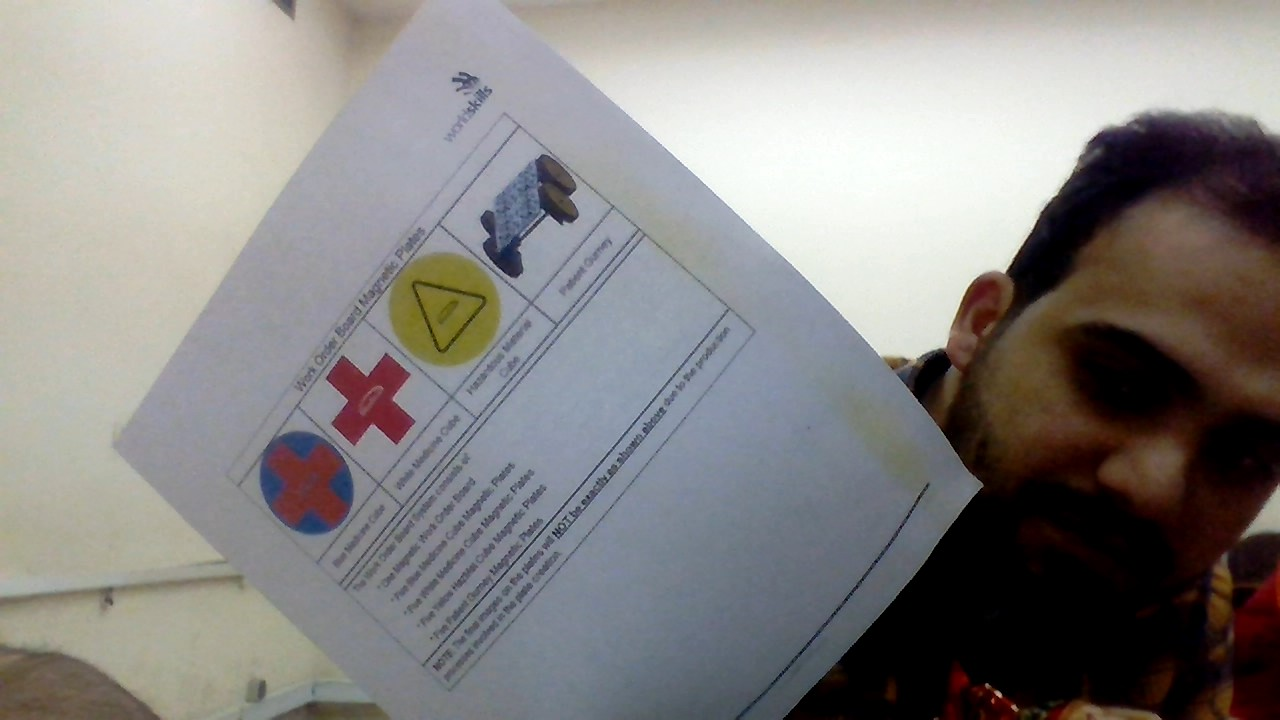bmc: (246, 428, 360, 539)
hmc: (379, 250, 504, 367)
pg: (461, 159, 592, 281)
wmc: (300, 342, 419, 453)
